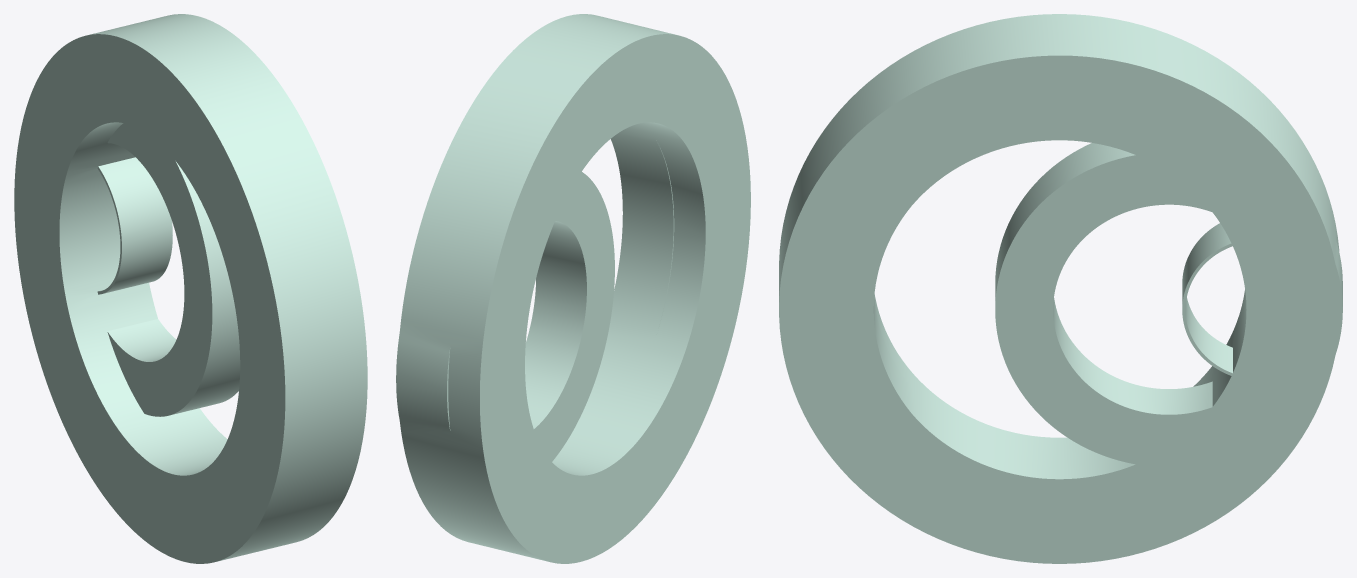
3 renders of one model, left to right at view 1: azimuth 30°, elevation 25°; view 2: azimuth 150°, elevation 25°; view 3: azimuth 270°, elevation 25°, orthographic. The views are drawn at different scales.
Visible parts, largest first — view 1: Renderer Node; view 2: Renderer Node; view 3: Renderer Node.
Part boxes in pixels (x1,y1,x2,y2): Renderer Node: [14, 14, 367, 563]; Renderer Node: [396, 14, 750, 563]; Renderer Node: [779, 14, 1342, 563].
Size of the model in its own units: 0.2656 by 1.52 by 1.52.
